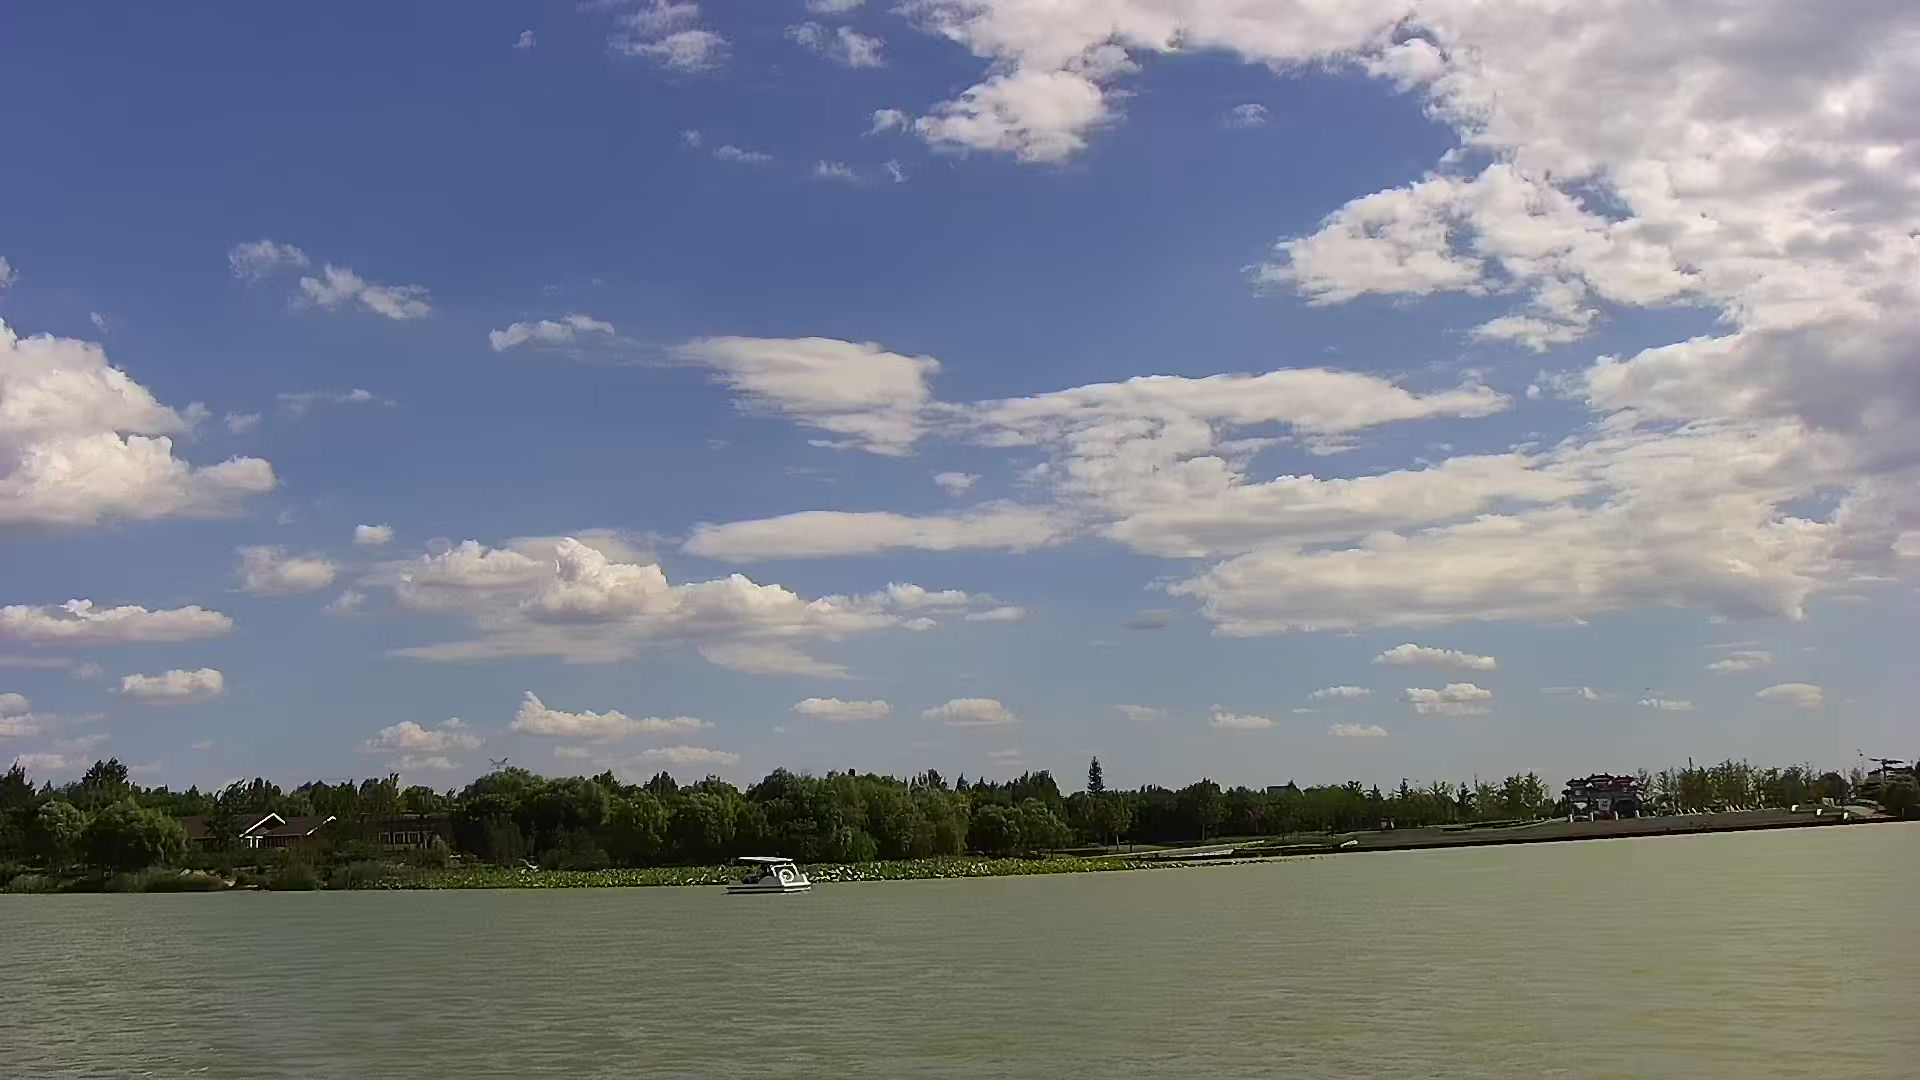boat: (719, 855, 818, 901)
